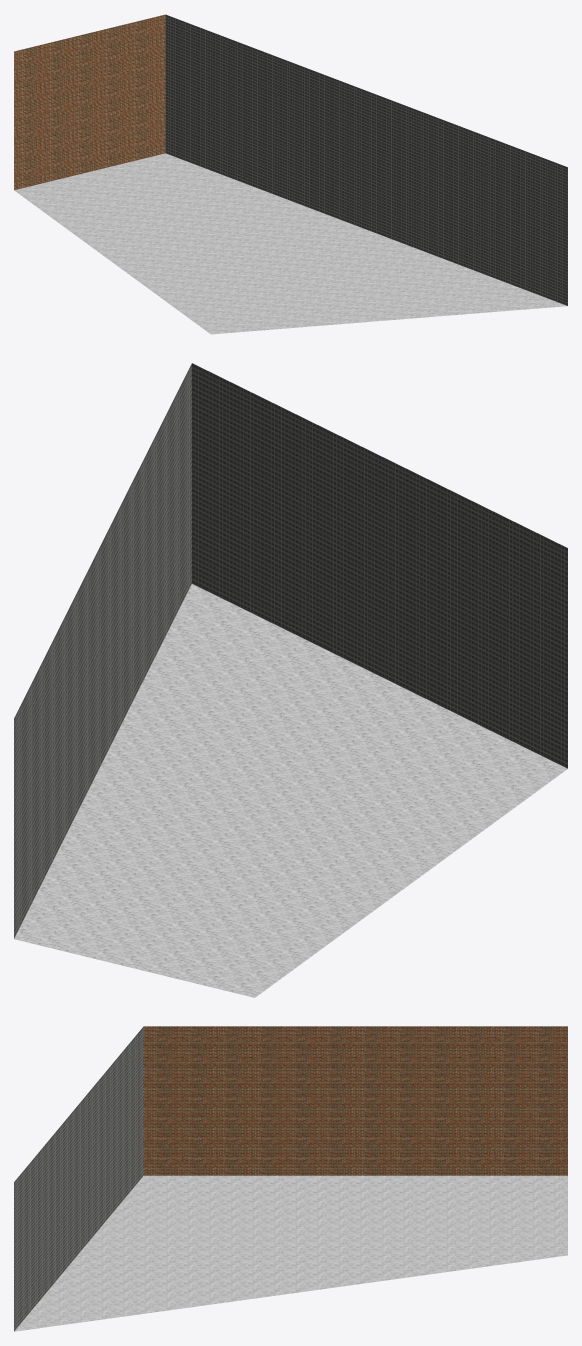
File: BrickRoom.gltf
3 renders of one model, top to bottom at view 1: azimuth 30°, elevation 25°; view 2: azimuth 150°, elevation 25°; view 3: azimuth 270°, elevation 25°, orthographic. The views are drawn at different scales.
Visible parts, largest first — view 1: GlassThick, Marble, BrickBare; view 2: GlassThick, Marble; view 3: BrickBare, Marble, GlassThick.
Boxes of the visible parts, left/top/right/bottom form: GlassThick: left=165, top=14, right=567, bottom=305; Marble: left=14, top=153, right=567, bottom=334; BrickBare: left=14, top=14, right=165, bottom=190; GlassThick: left=14, top=363, right=567, bottom=938; Marble: left=14, top=584, right=567, bottom=997; BrickBare: left=143, top=1026, right=567, bottom=1175; Marble: left=14, top=1175, right=567, bottom=1331; GlassThick: left=14, top=1026, right=143, bottom=1331.
Size of the model in its own units: 15.66 by 7 by 23.5.
4 materials, 4 textured.
